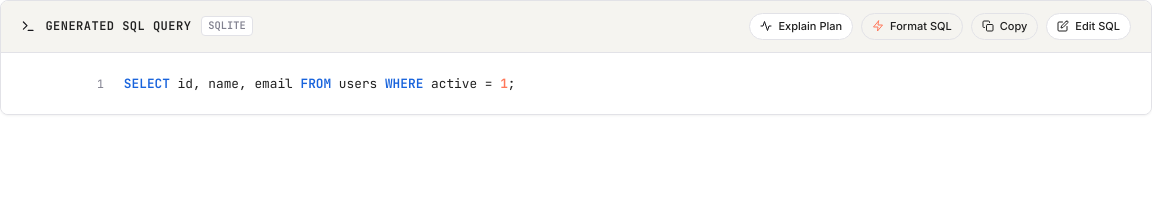
Scenario: SqlViewer Component › handles running state correctly and disables execute button when isExecuting is true
This screenshot has width=1152, height=224.
Click the button "Edit SQL".
click(1089, 26)  # box 1046,13 -> 1131,40
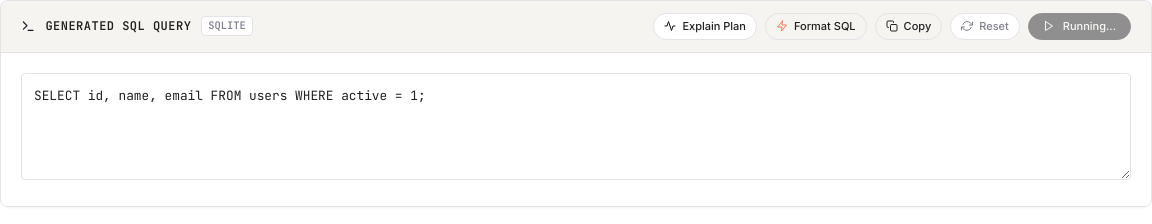
Now the button "Running..." is disabled, box 1028,13 -> 1131,40
